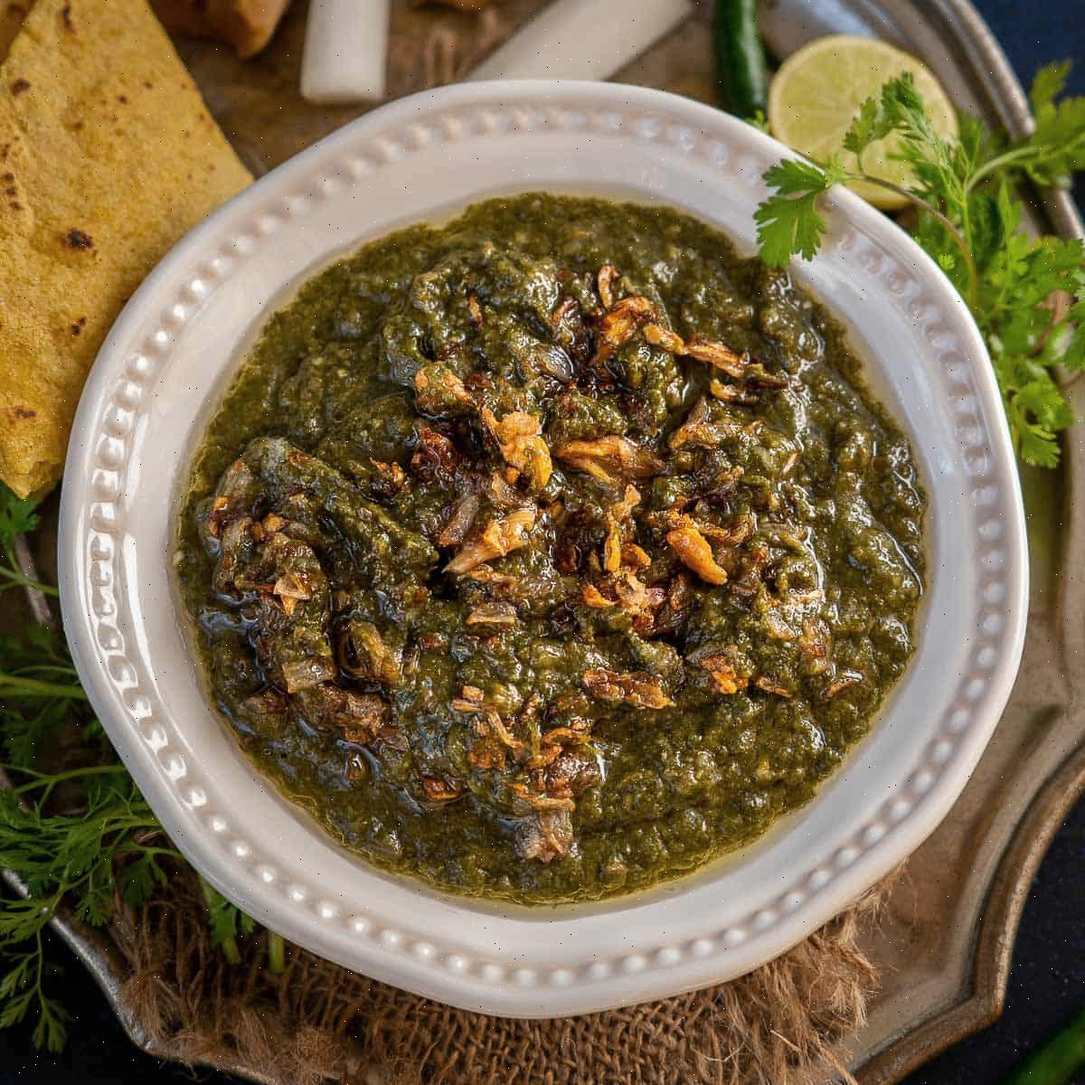saag: (199, 204, 902, 886)
